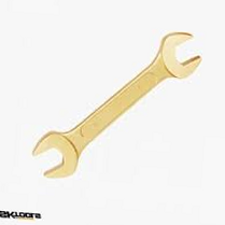Wrench: (31, 30, 207, 186)
